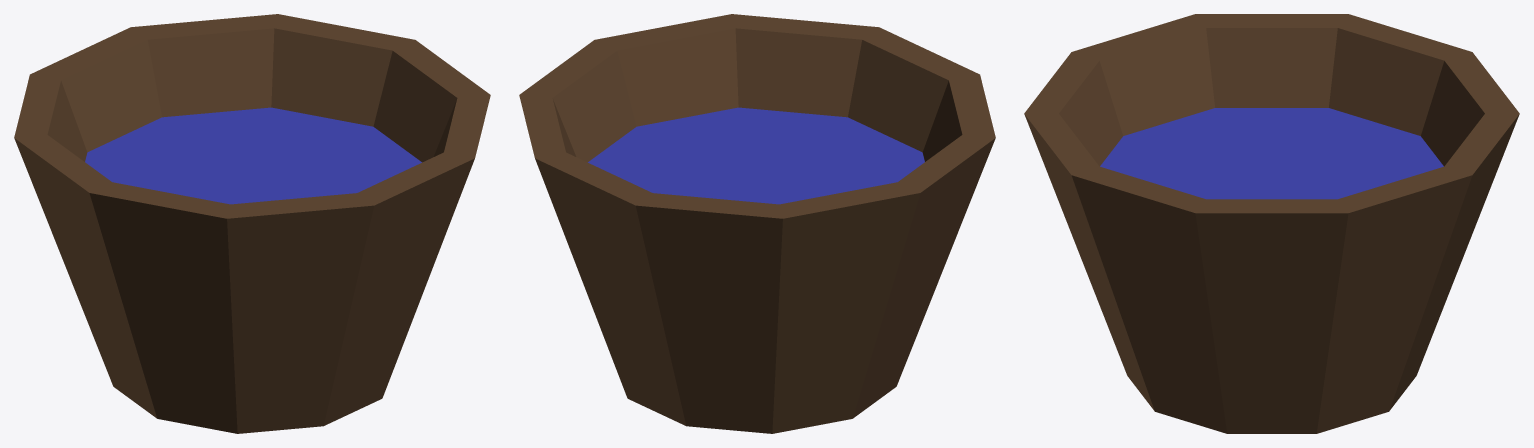
The model's file is bucket.fbx.
3 renders of one model, left to right at view 1: azimuth 30°, elevation 25°; view 2: azimuth 150°, elevation 25°; view 3: azimuth 270°, elevation 25°, orthographic.
Visible parts, largest first — view 1: Bucket, Water; view 2: Bucket, Water; view 3: Bucket, Water.
Part boxes in pixels (x1,y1,x2,y2): Bucket: (14, 14, 490, 433); Water: (85, 107, 421, 204); Bucket: (519, 14, 995, 433); Water: (588, 107, 924, 204); Bucket: (1024, 14, 1519, 433); Water: (1100, 108, 1443, 199).
Bounding box in the file's own units: 48.88 × 30 × 51.4.
